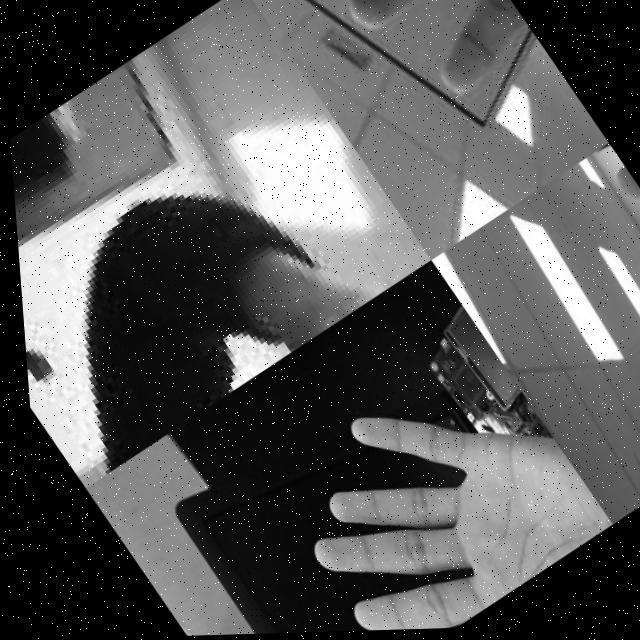no-gloves: (240, 335, 610, 635), (307, 0, 588, 192)
